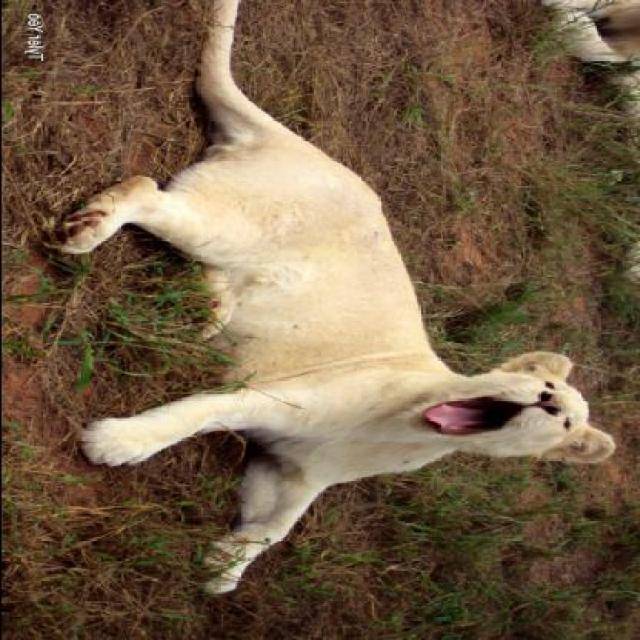Lion: (2, 2, 623, 606)
